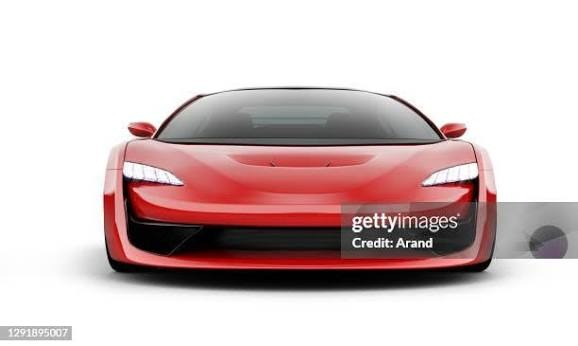car: (122, 92, 496, 262)
